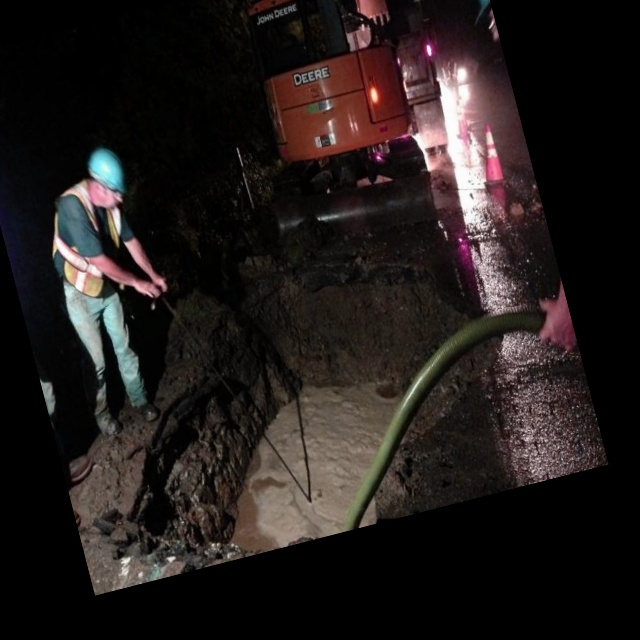Con_Casco: (83, 144, 129, 210)
Con_Chaleco: (37, 178, 115, 299)
